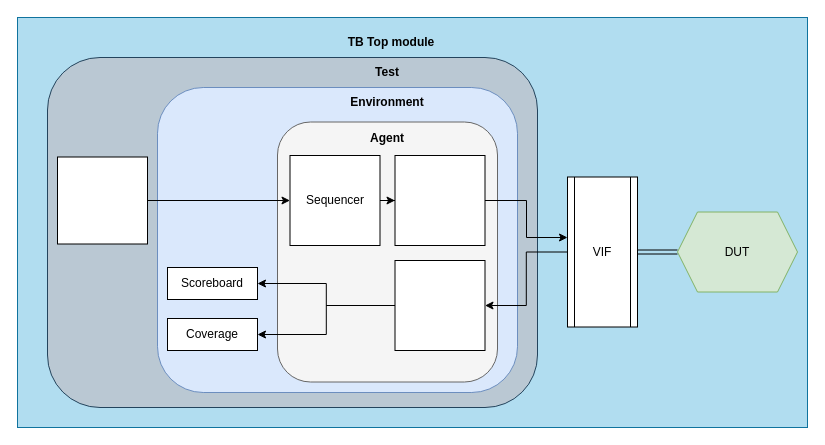
Some shapes in this 825 by 445 pixel diagram are drawn without their labels. Each missing label, with the centre of its shape:
Driver: pixel 439 200
Monitor: pixel 439 305
Sequence: pixel 102 200
